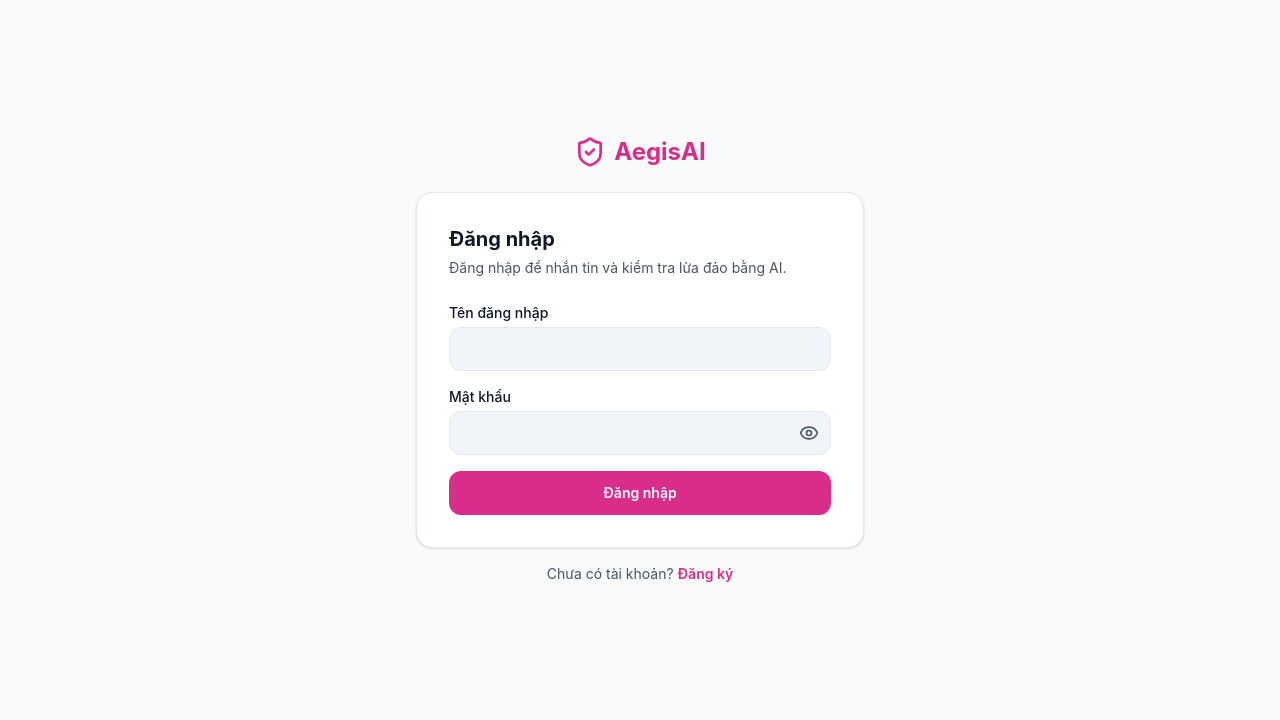
Scenario: Trang đăng nhập › đăng nhập đúng: gửi đúng body, lưu JWT và vào trang chat
The width and height of the screenshot is (1280, 720).
Step 1. Type "  demo_user " into the field labelled "Tên đăng nhập" → [640, 349], box [449,327,831,371]
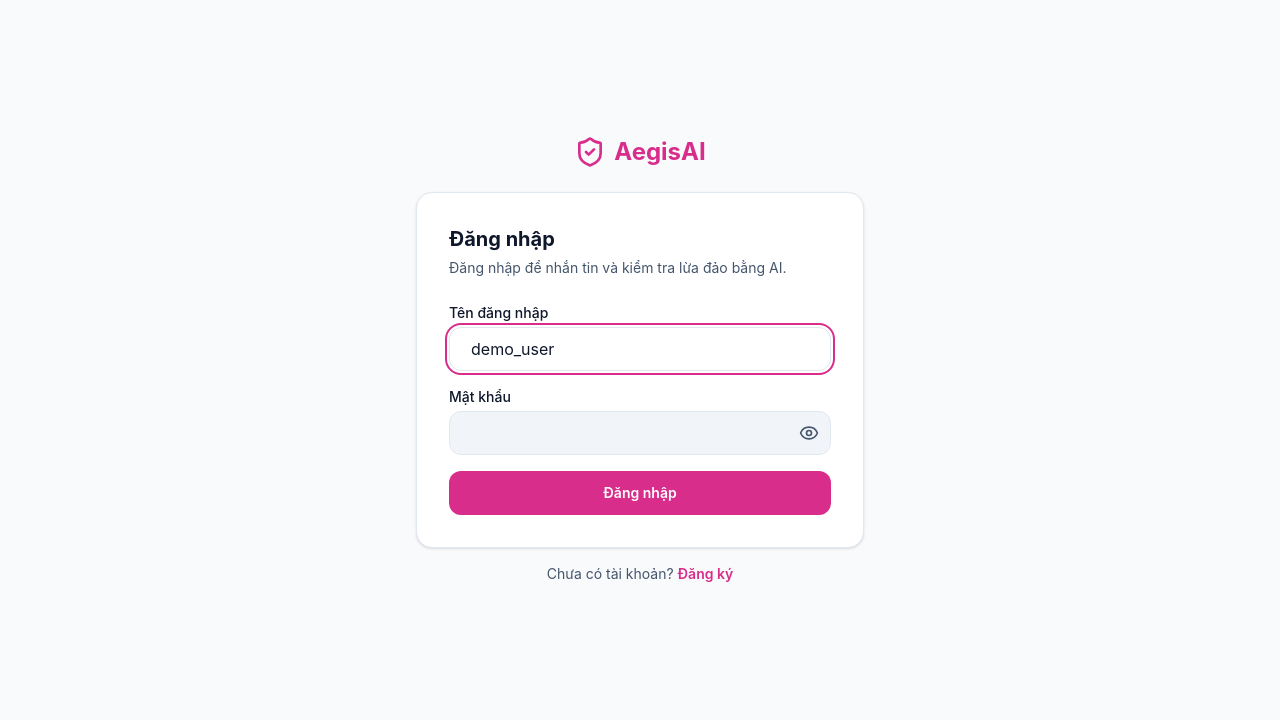
Step 2. Type "password123" into the password field labelled "Mật khẩu" → [640, 433], box [449,411,831,455]
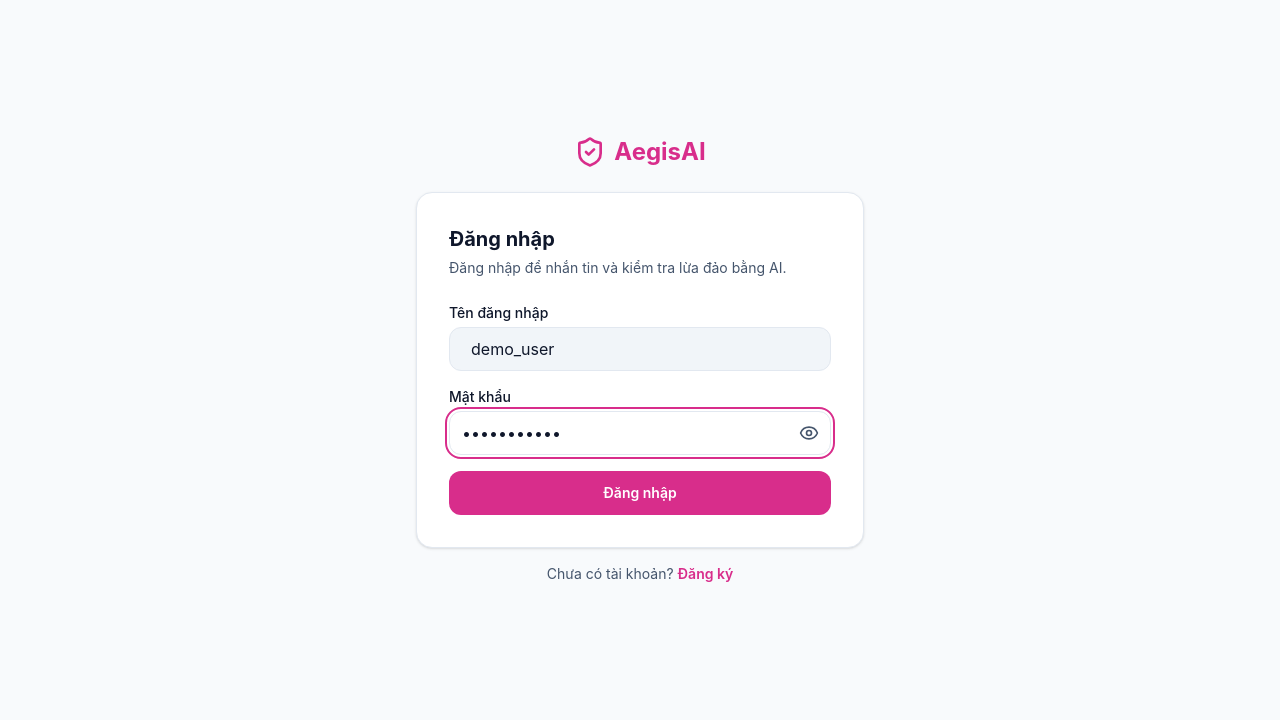
Step 3. Click the button "Đăng nhập" → [640, 493], box [449,471,831,515]
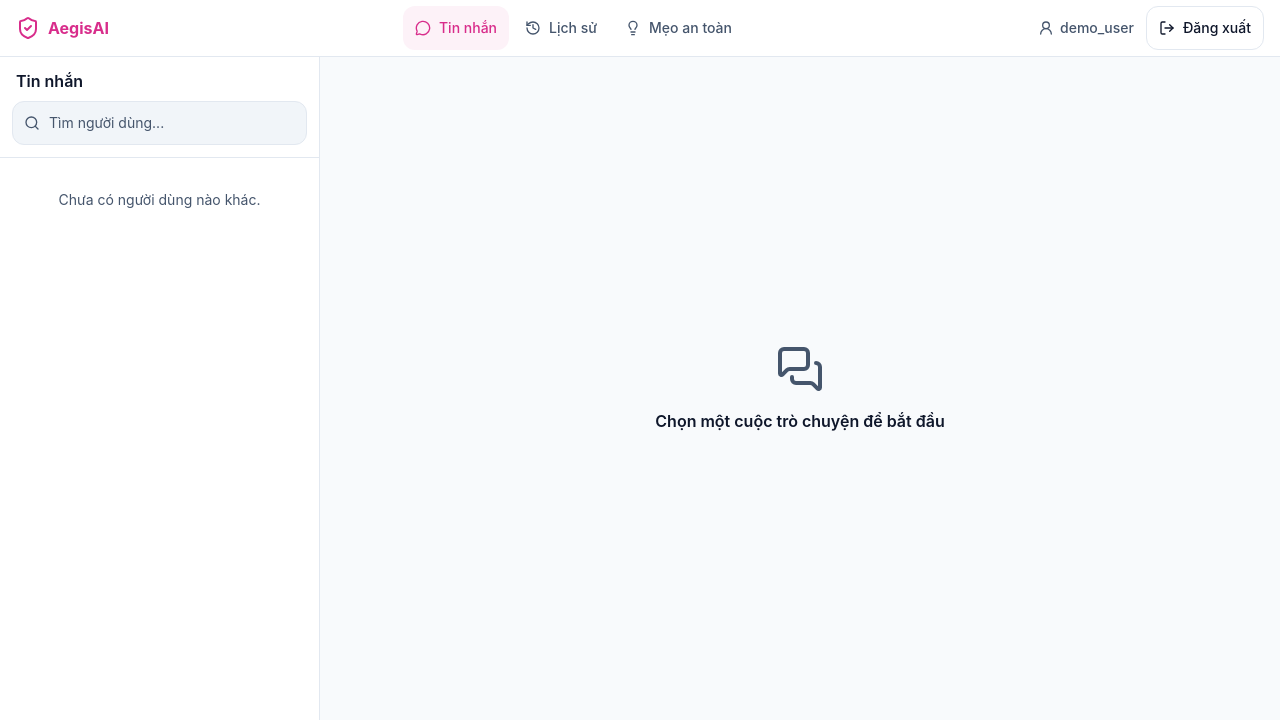
Now the heading "Chọn một cuộc trò chuyện để bắt đầu" is shown, box [655,409,945,433]
